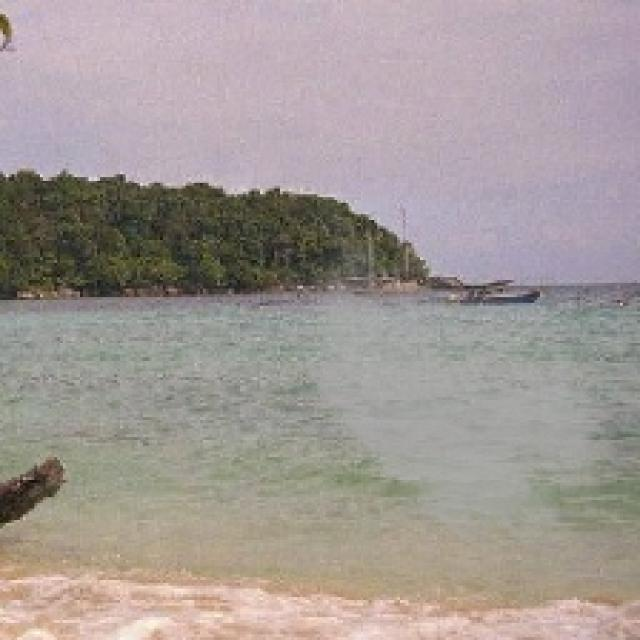smoke: (266, 191, 634, 560)
